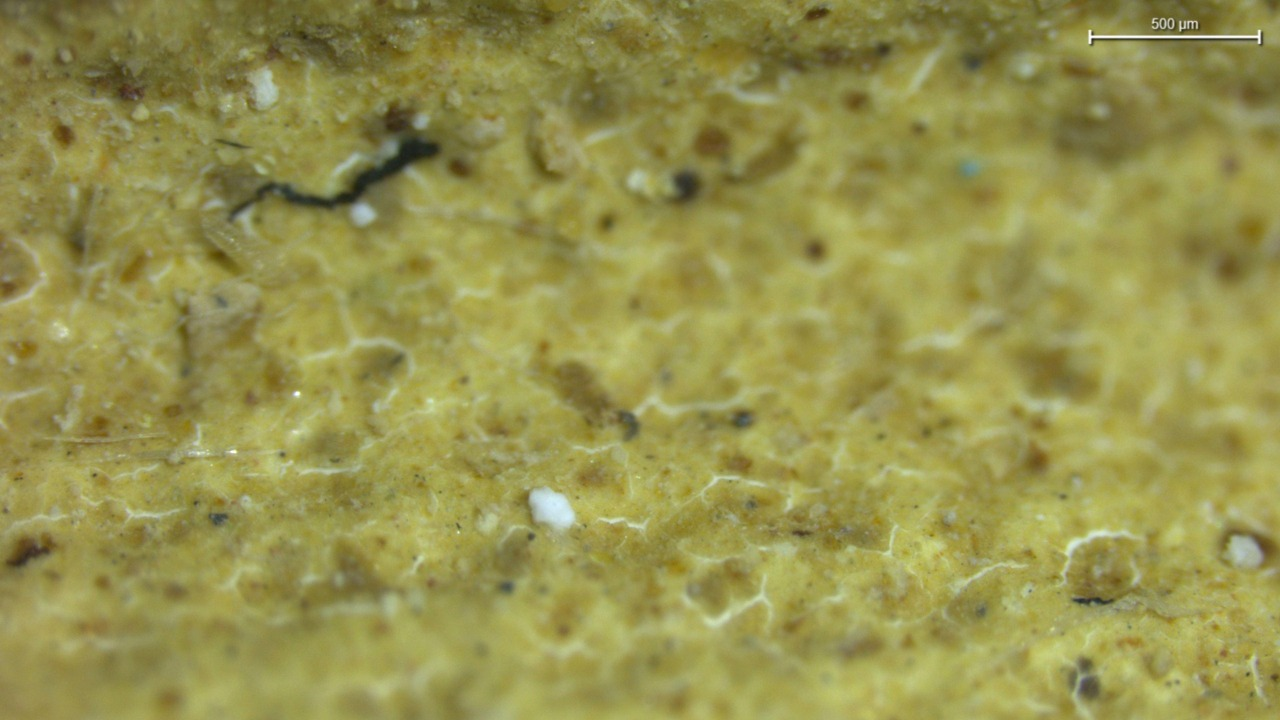microplastic_fragment: (529, 487, 575, 530)
